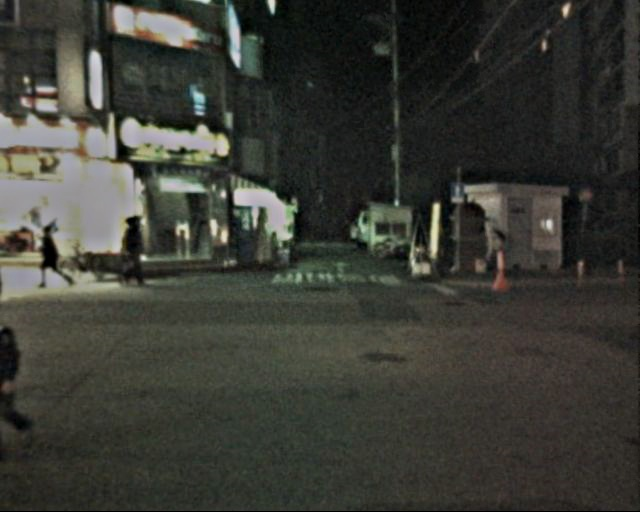person: (36, 222, 73, 288), (121, 214, 151, 284), (479, 220, 503, 283)
